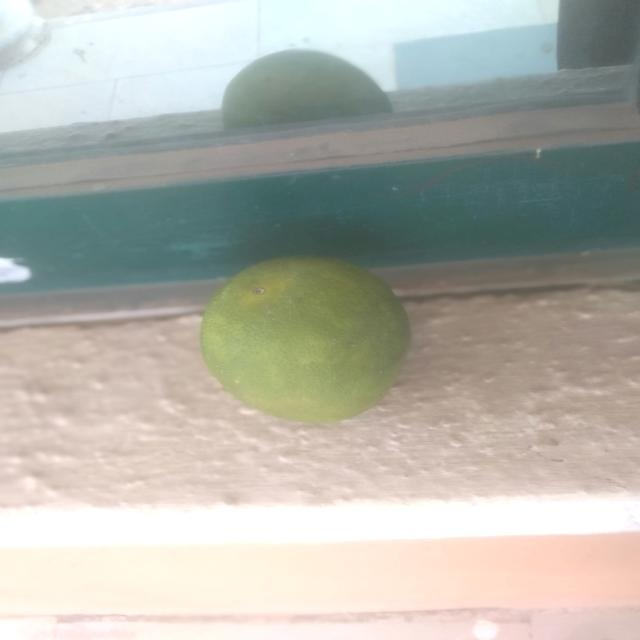agrume: (174, 247, 426, 439)
